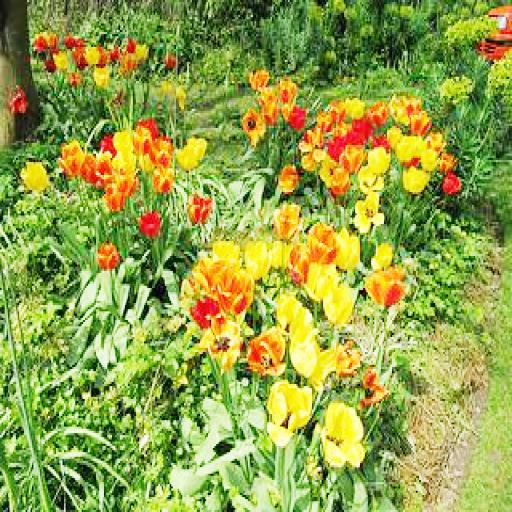tulip: (248, 328, 285, 378), (365, 264, 405, 310), (218, 271, 252, 316), (310, 224, 340, 267), (274, 203, 300, 243), (288, 245, 310, 284), (138, 211, 162, 237)
